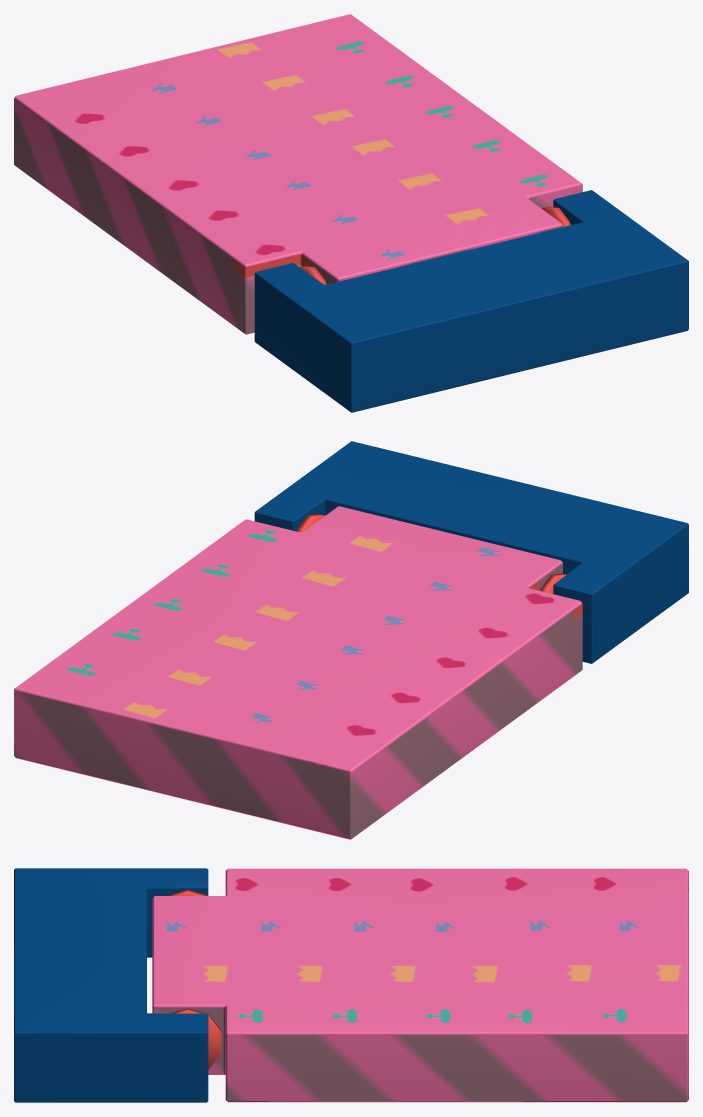
File: PLF0110039.fbx
3 renders of one model, top to bottom at view 1: azimuth 30°, elevation 25°; view 2: azimuth 150°, elevation 25°; view 3: azimuth 270°, elevation 25°, orthographic.
Visible parts, largest first — view 1: smPLF0110039; view 2: smPLF0110039; view 3: smPLF0110039.
Part boxes in pixels (x1,y1,x2,y2): smPLF0110039: (14, 14, 688, 412); smPLF0110039: (14, 441, 688, 839); smPLF0110039: (14, 868, 688, 1102).
Bounding box in the file's own units: 262 × 52.36 × 453.
1 material, 1 textured.
